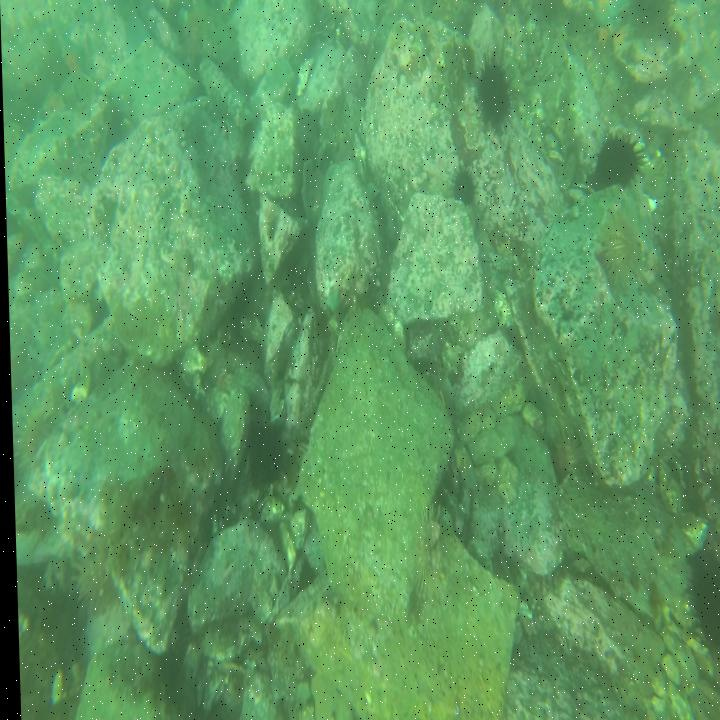echinus: (408, 502, 452, 596), (685, 552, 720, 658), (595, 218, 644, 290), (590, 130, 642, 190), (476, 54, 512, 128), (243, 421, 282, 488), (449, 165, 478, 206)
starfish: (57, 36, 87, 82)
